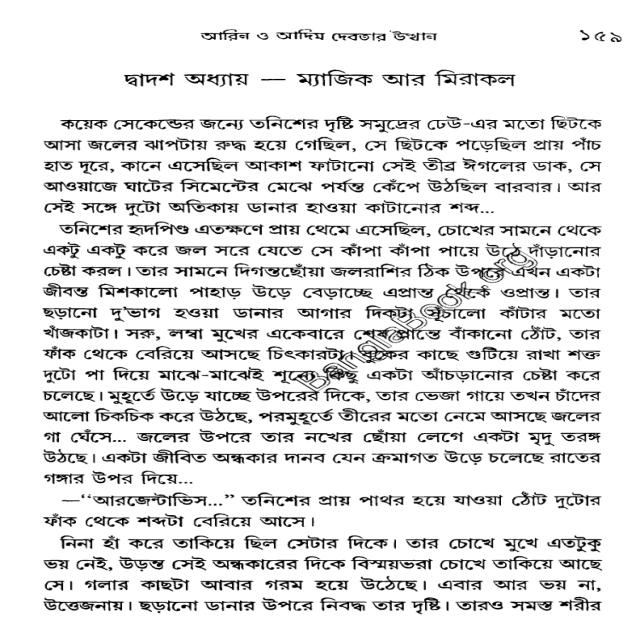page number: (573, 26, 628, 49)
paragraph: (24, 216, 625, 486), (27, 109, 615, 220), (37, 532, 604, 618), (36, 489, 605, 531)
text: (294, 241, 529, 399), (198, 25, 439, 48)
title: (121, 68, 524, 88)
